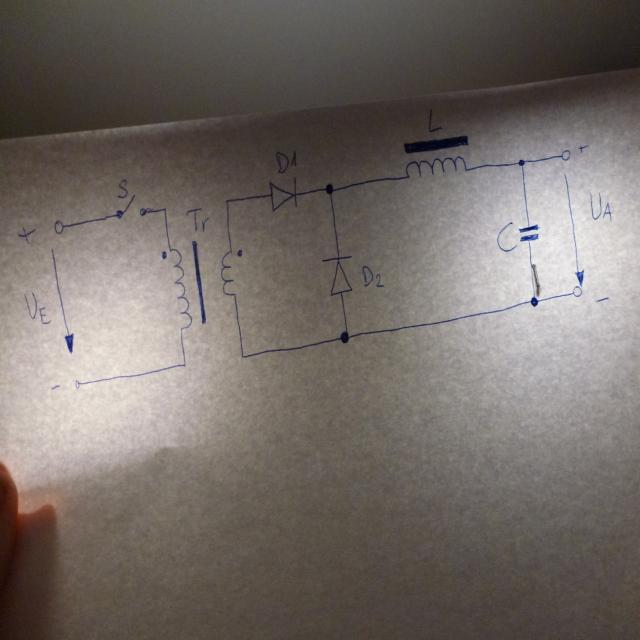capacitor: (514, 224, 543, 243)
diode: (321, 249, 355, 296), (267, 175, 298, 212)
inductor: (402, 133, 469, 181)
junction: (528, 293, 542, 308), (323, 180, 334, 196), (339, 329, 350, 345), (515, 156, 527, 169), (180, 358, 188, 370), (223, 196, 230, 205), (239, 351, 246, 360), (161, 205, 167, 213)
switch: (114, 191, 147, 221)
terminal: (52, 218, 66, 235), (570, 282, 584, 298), (559, 146, 572, 162), (73, 377, 82, 390)
text: (21, 288, 52, 326), (587, 189, 613, 223), (495, 220, 517, 254), (274, 146, 298, 174), (360, 264, 384, 288), (186, 207, 210, 231), (426, 105, 444, 133), (113, 177, 130, 200)
transformer: (158, 236, 245, 330)
